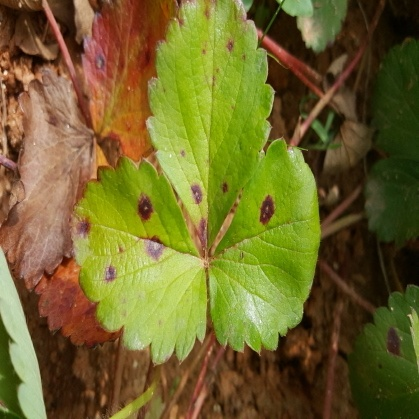Leaf_Spot: (0, 0, 419, 287), (122, 150, 339, 418), (144, 163, 274, 418), (203, 51, 351, 265), (98, 62, 211, 283)
